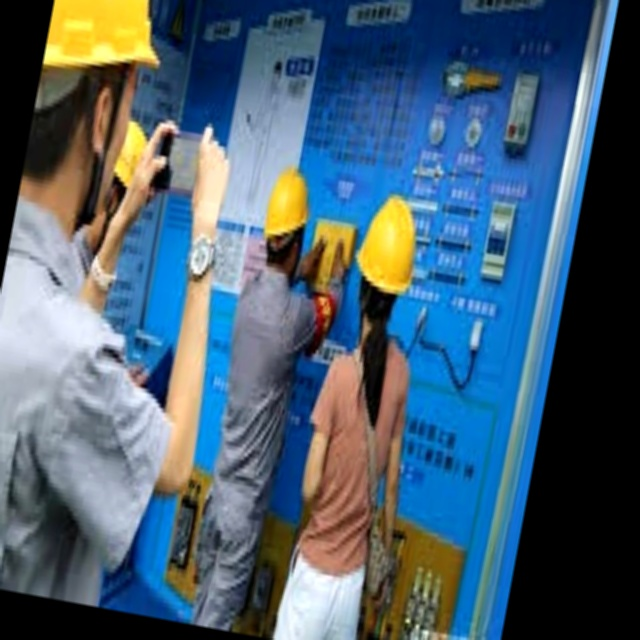Con_Casco: (348, 189, 426, 326)
